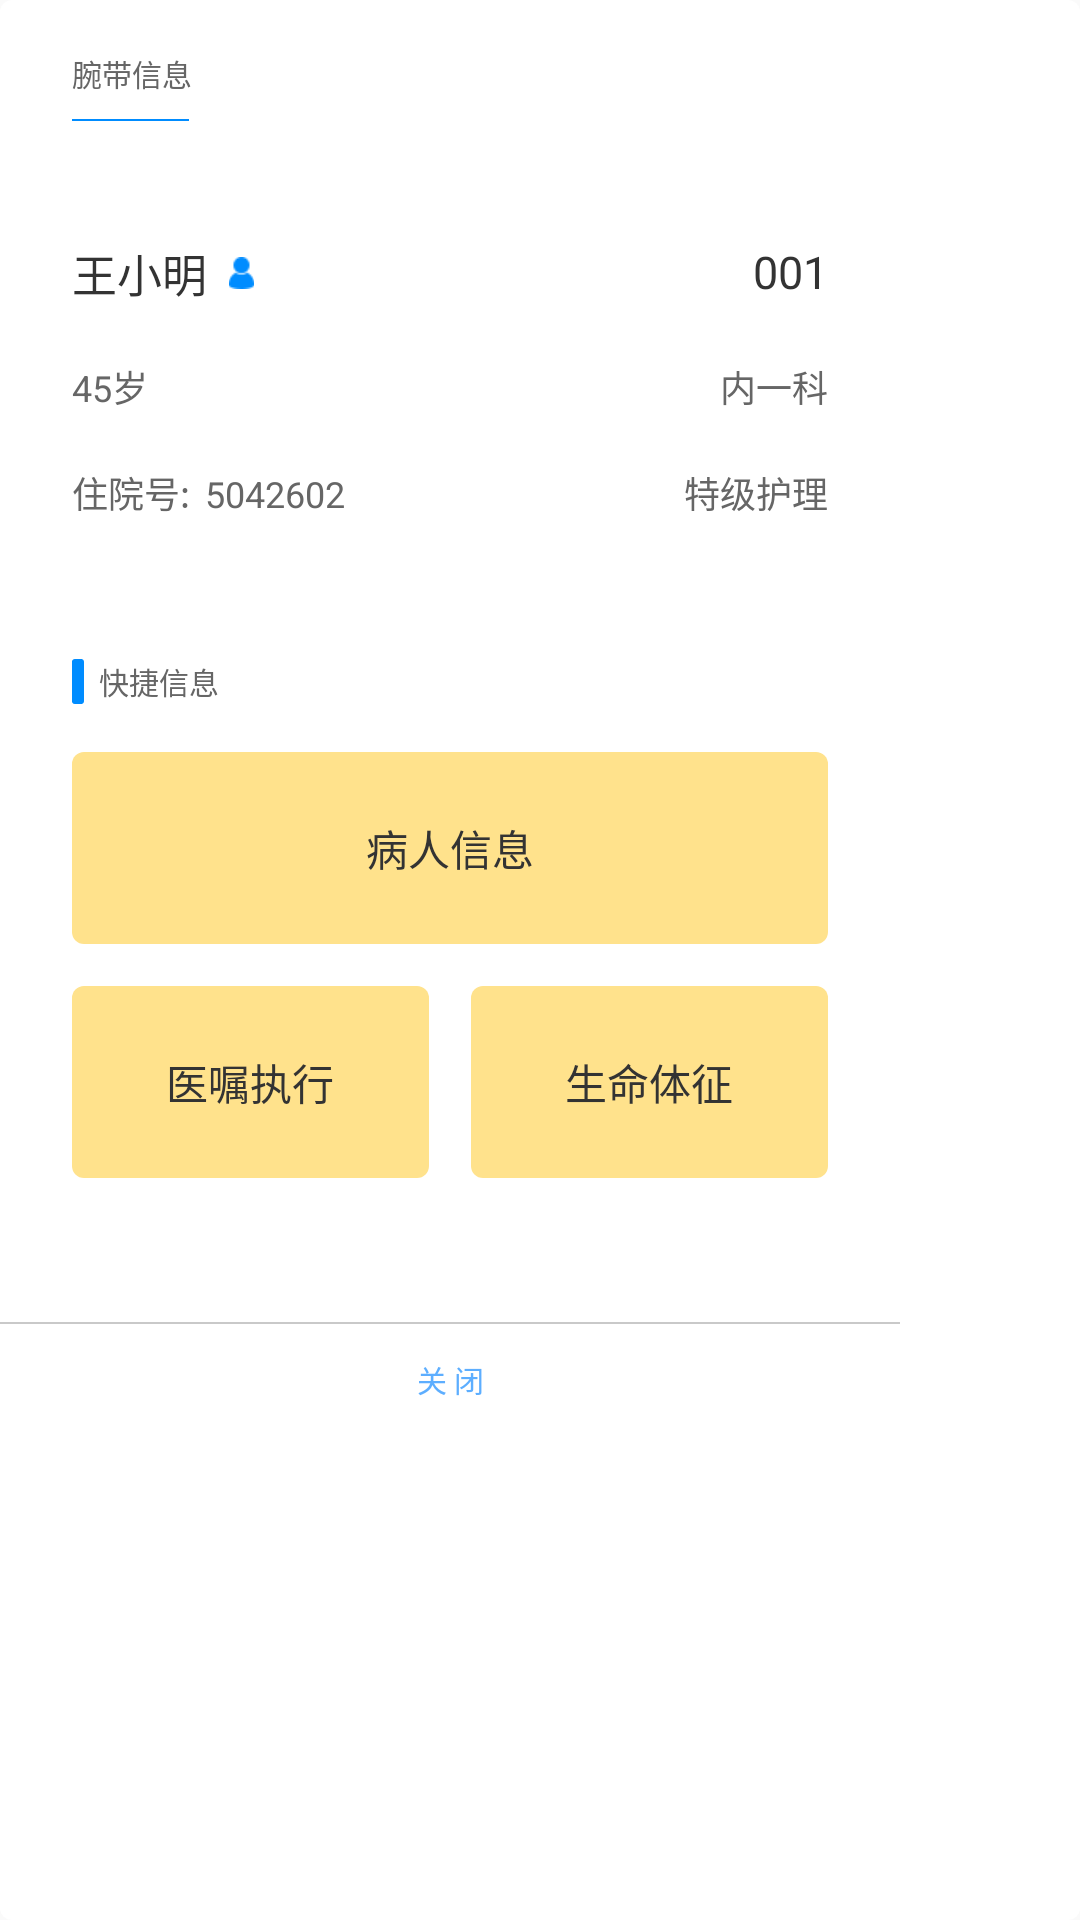

Named icons in this screenshot (1080px x 1920px) and their centers, [x,y]:
male: [241,273]
